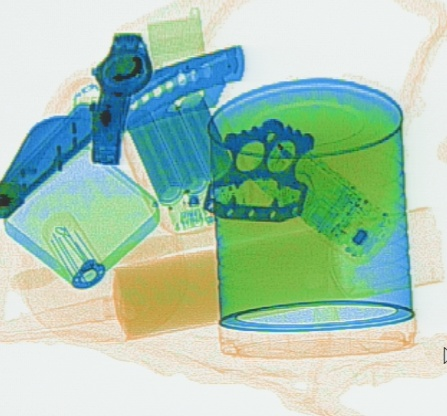knife: (95, 43, 245, 144), (1, 97, 111, 222)
powerbank: (116, 83, 247, 237)
